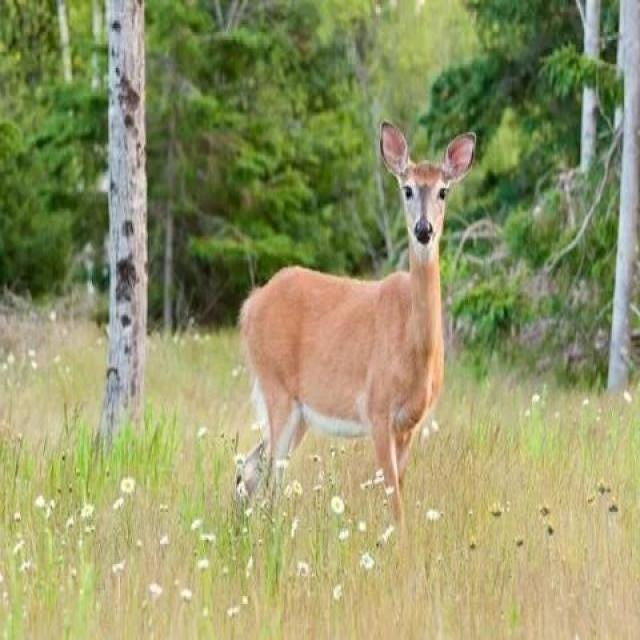deer: (236, 115, 477, 536)
